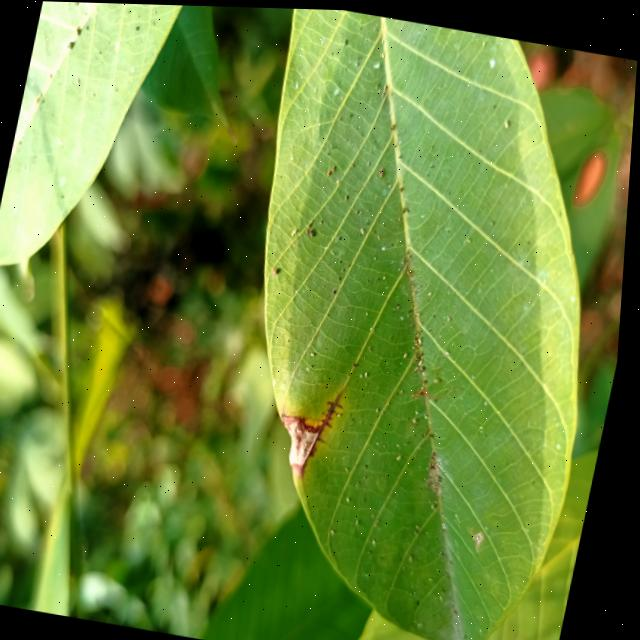Corynespora: (319, 391, 350, 444)
Leaf-Blight: (278, 412, 326, 468)
